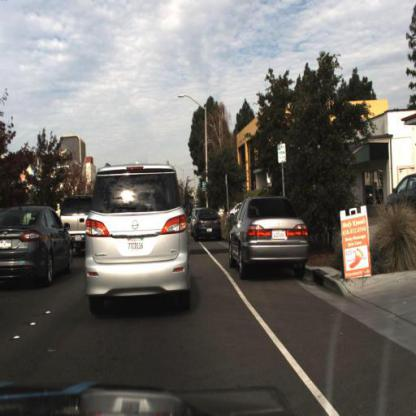car: (84, 161, 198, 322), (226, 193, 323, 289), (1, 198, 75, 292), (55, 182, 90, 267), (383, 168, 416, 215), (191, 206, 224, 248)
